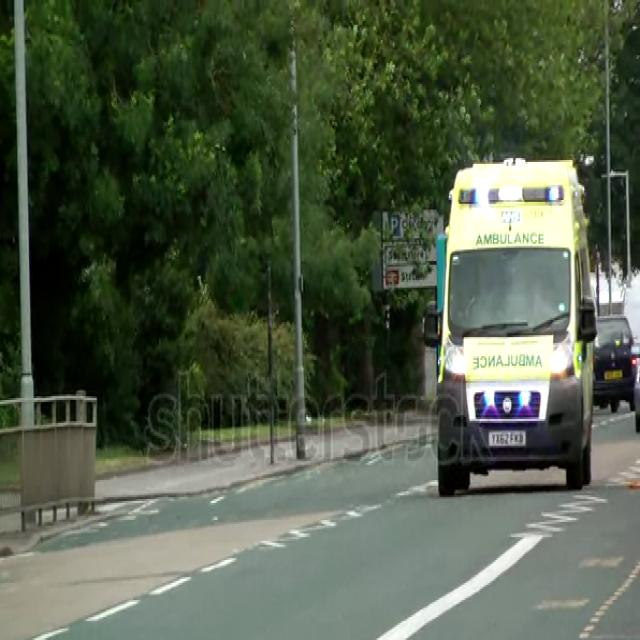ambulance: (424, 156, 604, 494)
